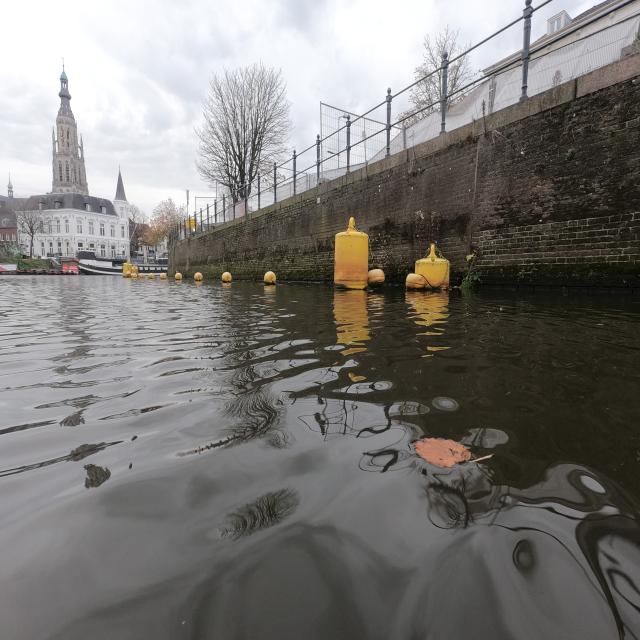boat: (80, 254, 124, 276)
sky: (172, 52, 634, 290), (8, 4, 526, 202)
wall: (222, 66, 634, 288), (172, 116, 484, 282)
water: (12, 290, 636, 632)
